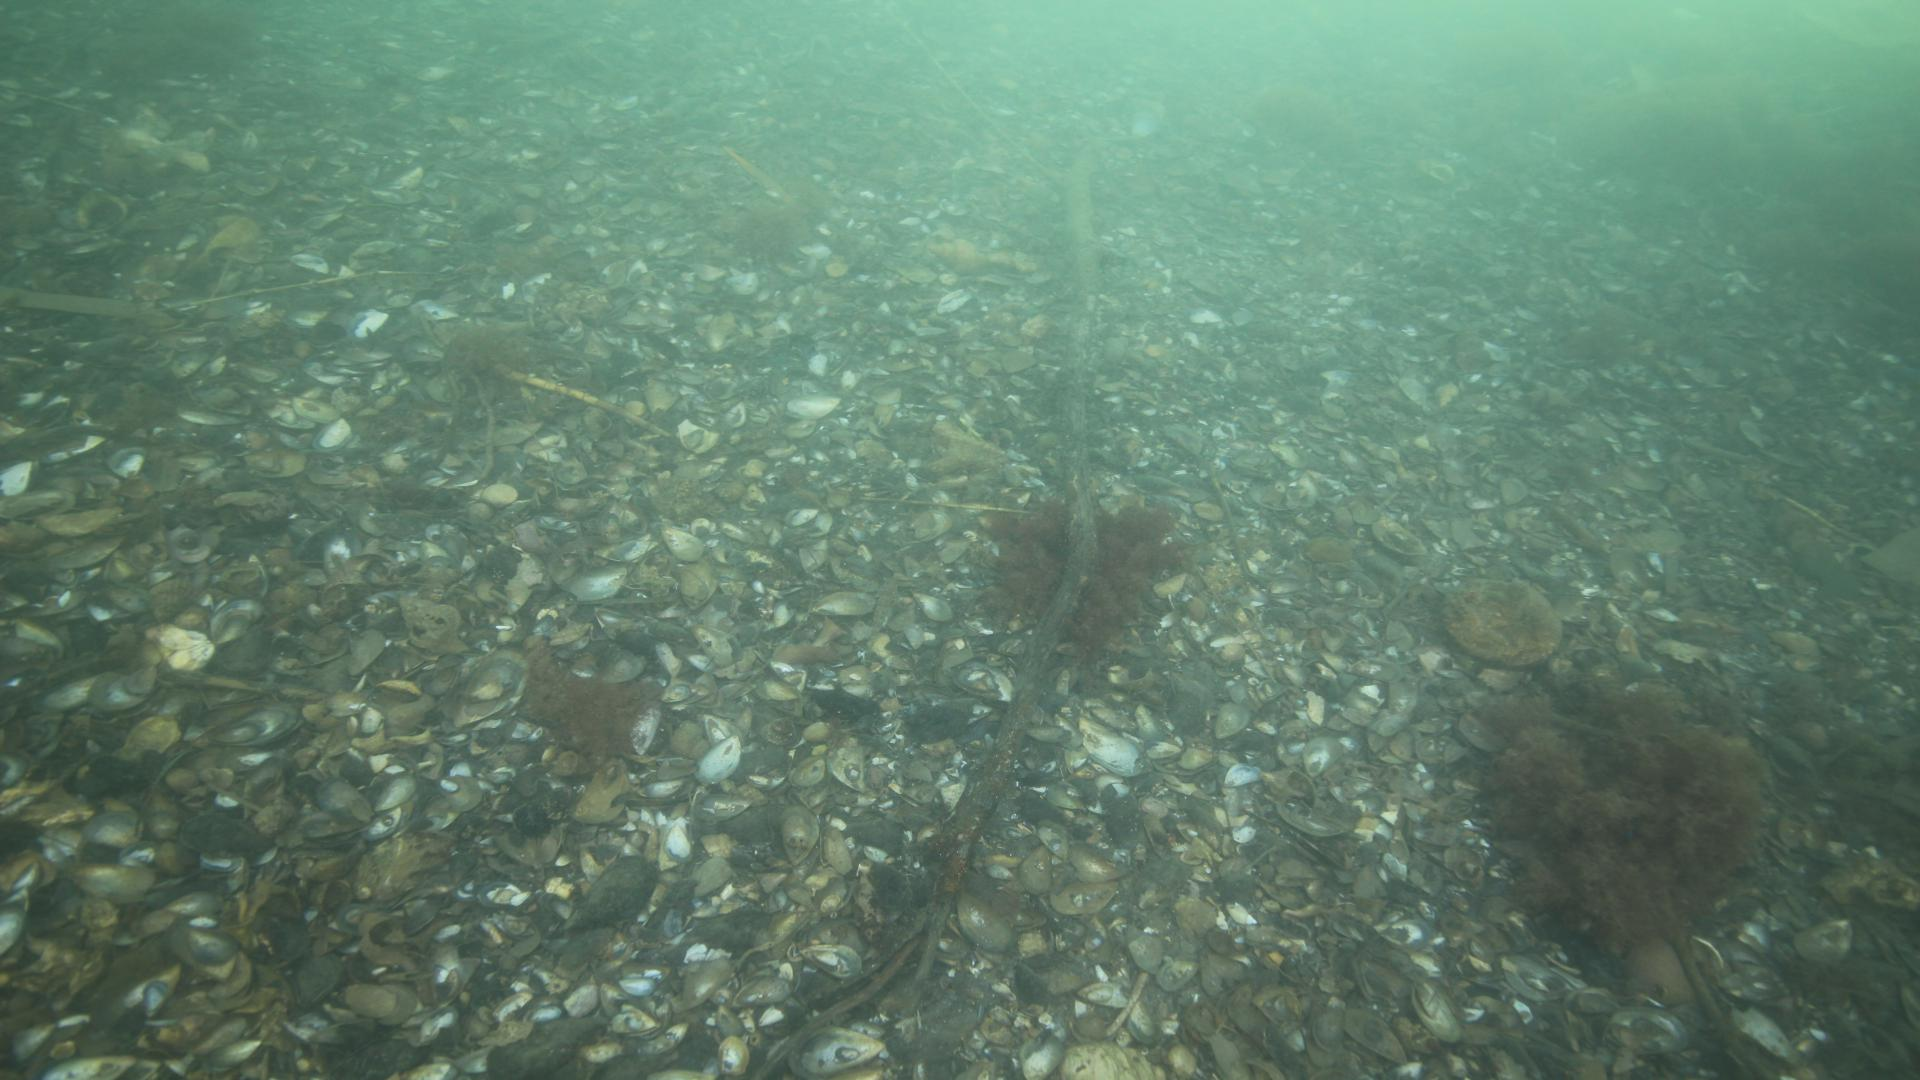wood: (956, 164, 1097, 837)
